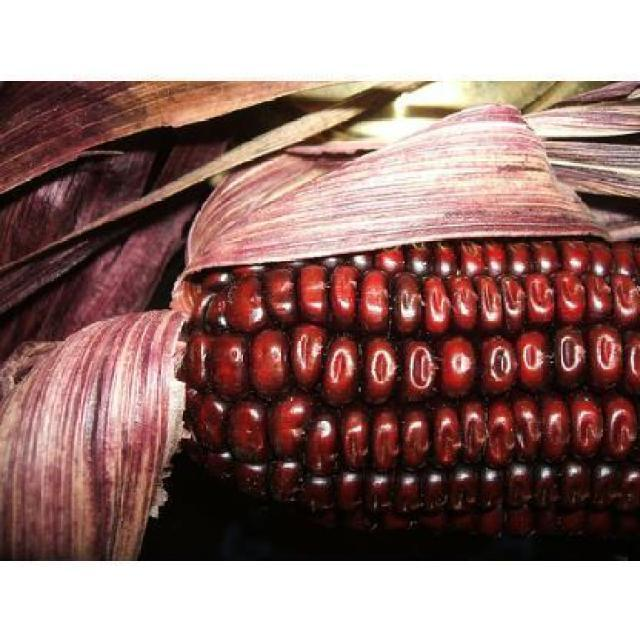Corn: (173, 232, 636, 552)
